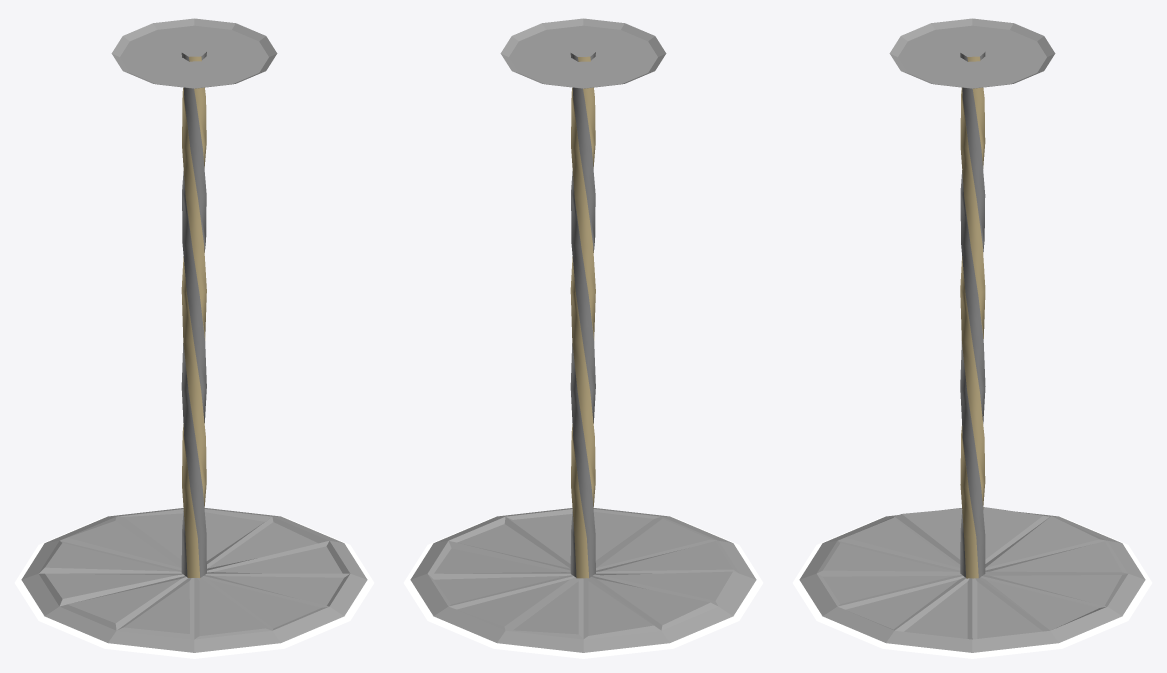
Rendered from pole.glb.
3 renders of one model, left to right at view 1: azimuth 30°, elevation 25°; view 2: azimuth 150°, elevation 25°; view 3: azimuth 270°, elevation 25°, orthographic.
Visible parts, largest first — view 1: pole; view 2: pole; view 3: pole.
Part boxes in pixels (box(x1,y1,x2,y2)): pole: box(14, 18, 374, 658); pole: box(403, 18, 763, 658); pole: box(792, 18, 1152, 658).
Size of what is drawn, in the model's own units: 2.31 by 3.77 by 2.31.
Materials: 3 (2 with a texture image).
